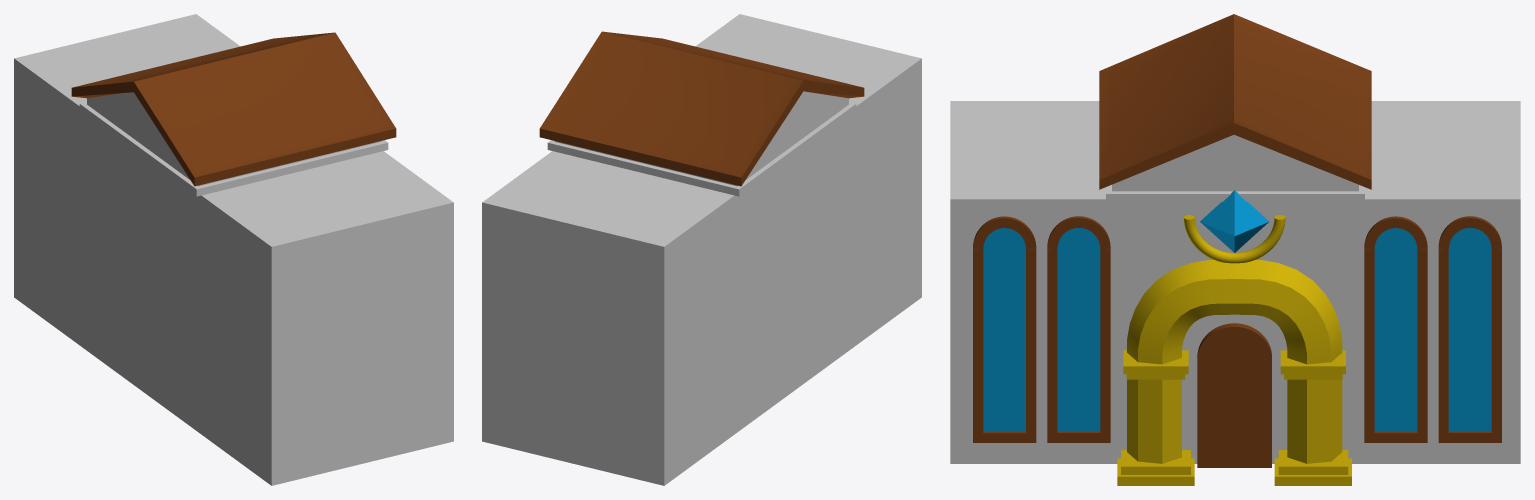
Rendered from templo3.fbx.
3 views of the same model, side by side, from view 1: azimuth 30°, elevation 25°; view 2: azimuth 150°, elevation 25°; view 3: azimuth 270°, elevation 25° (orthographic). The views are drawn at different scales.
Visible parts, largest first — view 1: Cube; view 2: Cube; view 3: Cube, Symmetry, Cylinder_2_4, Cylinder_2_2, Cylinder_2, Cylinder_2_3, Cylinder, Sphere, Torus.
Part boxes in pixels (x1=…): Cube: x1=14, y1=14, x2=453, y2=485; Cube: x1=482, y1=14, x2=921, y2=485; Cube: x1=950, y1=14, x2=1520, y2=463; Symmetry: x1=1117, y1=260, x2=1351, y2=485; Cylinder_2_4: x1=1047, y1=216, x2=1110, y2=442; Cylinder_2_2: x1=1438, y1=216, x2=1501, y2=442; Cylinder_2: x1=1364, y1=216, x2=1427, y2=442; Cylinder_2_3: x1=973, y1=216, x2=1036, y2=442; Cylinder: x1=1197, y1=323, x2=1271, y2=467; Sphere: x1=1200, y1=190, x2=1269, y2=252; Torus: x1=1183, y1=215, x2=1285, y2=263.
Bounding box in the file's own units: 830 × 1107 × 1635.
